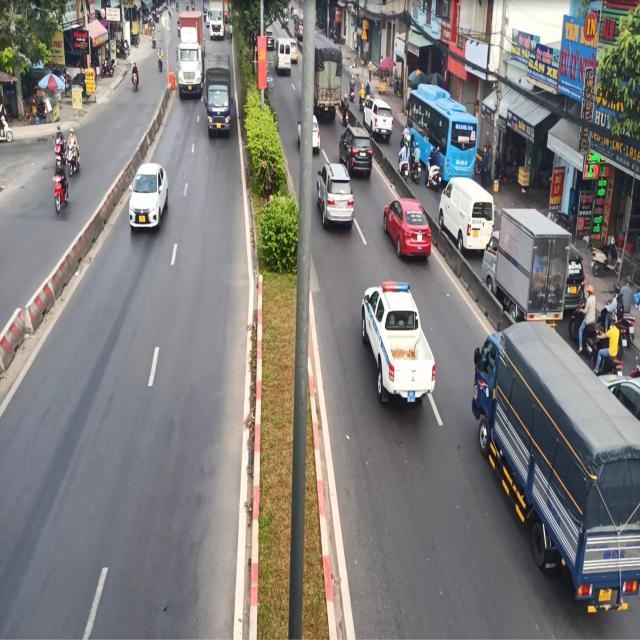car: (362, 273, 432, 425), (127, 154, 172, 248), (382, 190, 430, 268)
truck: (468, 307, 640, 632), (173, 8, 206, 105), (202, 46, 234, 140)
